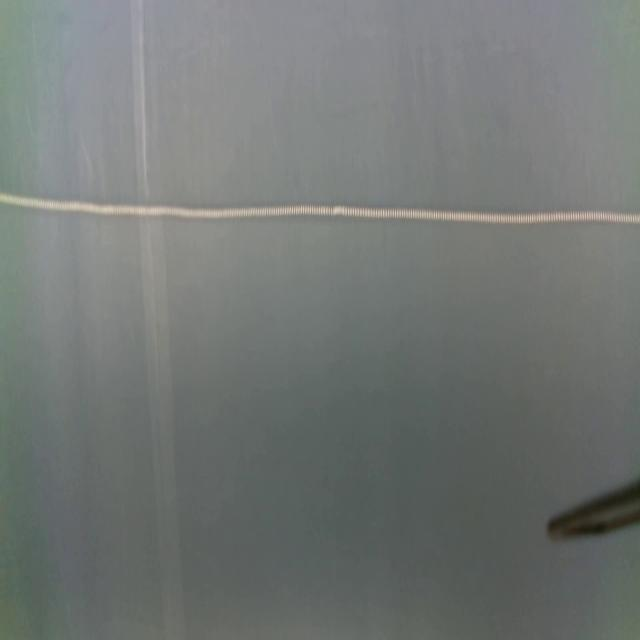crease: (132, 0, 188, 635)
